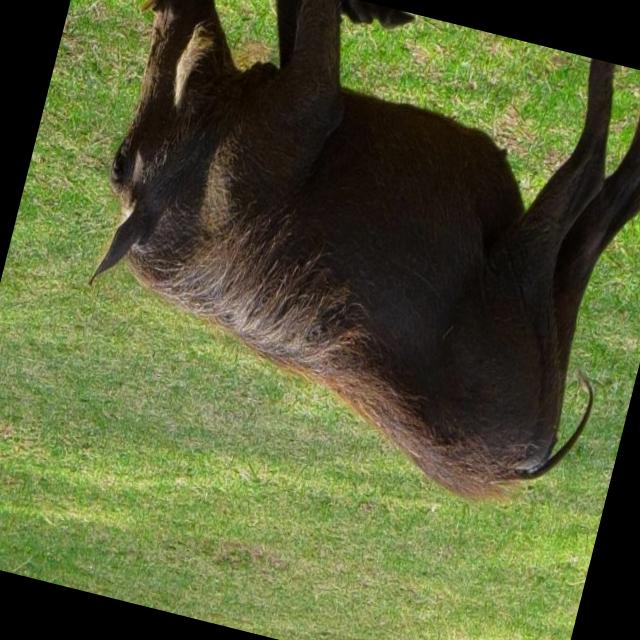pig: (94, 0, 640, 499)
